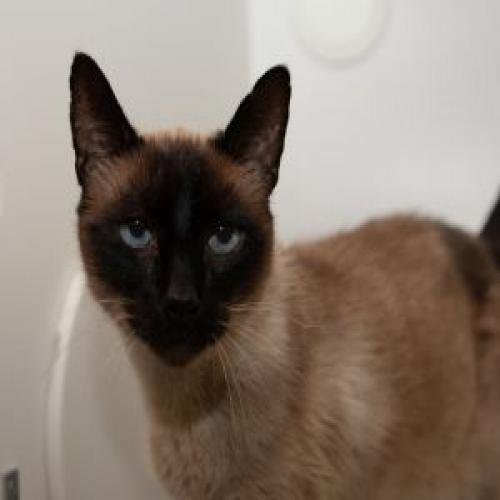siamese: (61, 38, 303, 388)
